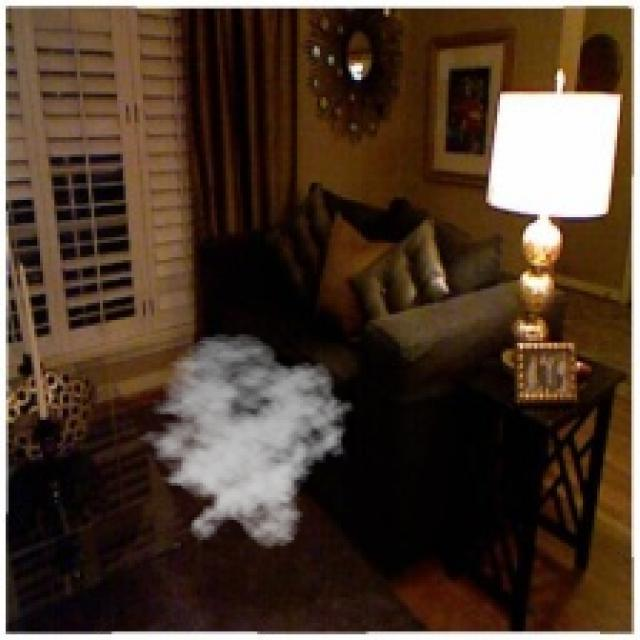Smoke: (126, 332, 354, 548)
